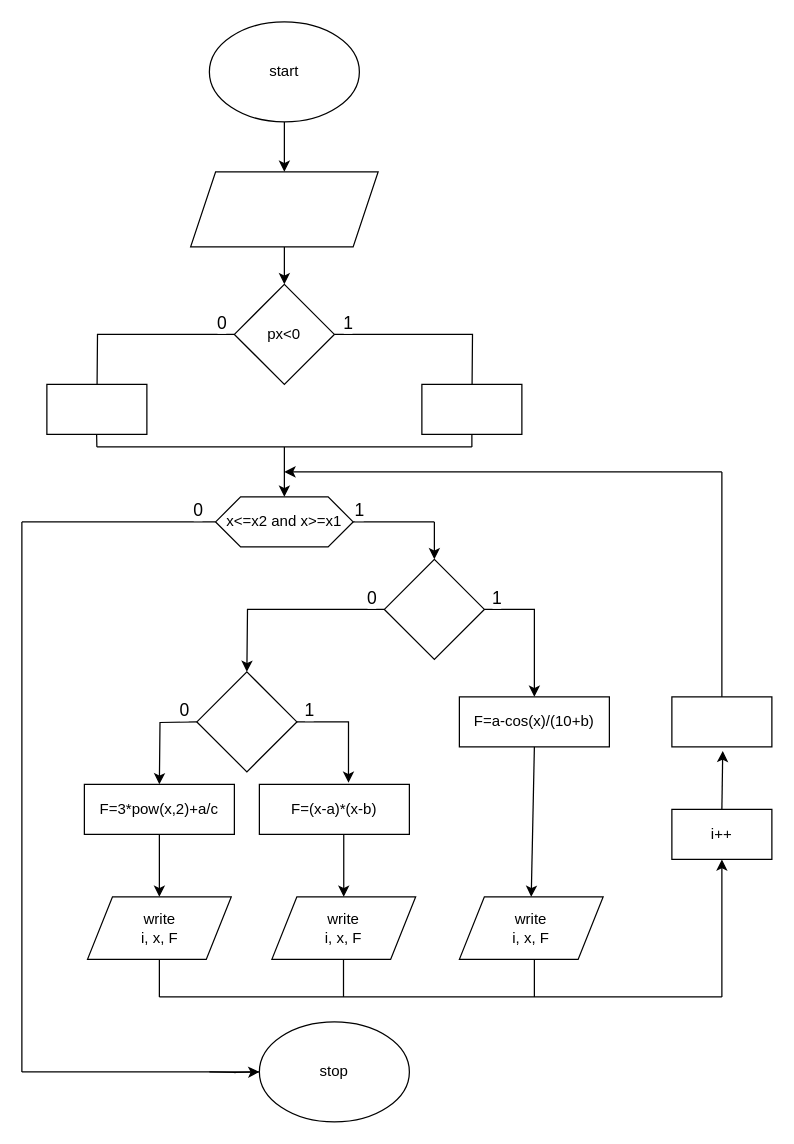
This 794x1144 diagram has some shape labels left out. The centre of each missing label's shape, as x and y in pixels:
"read px, x1, x2, a, b, c" belongs at point 283,209.
"x<0 && b!=0" belongs at point 433,608.
"x=x+px" belongs at point 721,721.
"x=x1" belongs at point 96,408.
"x=x2" belongs at point 471,408.
"x>0 || b==0" belongs at point 246,721.
